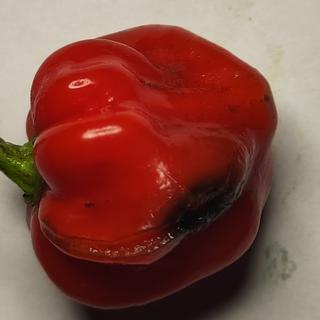Fly-bites: (79, 198, 100, 214)
striped: (36, 229, 182, 268)
